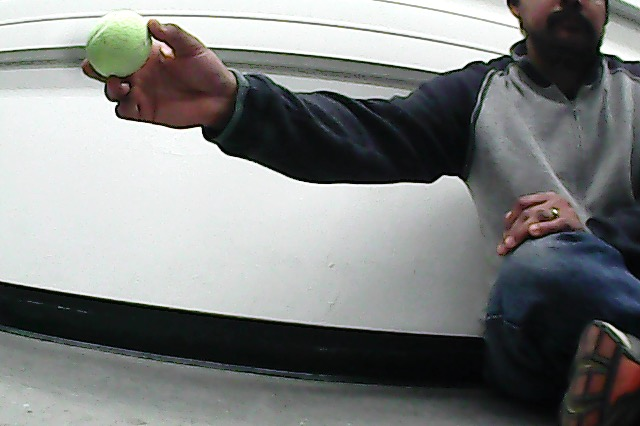ball: (84, 8, 157, 81)
